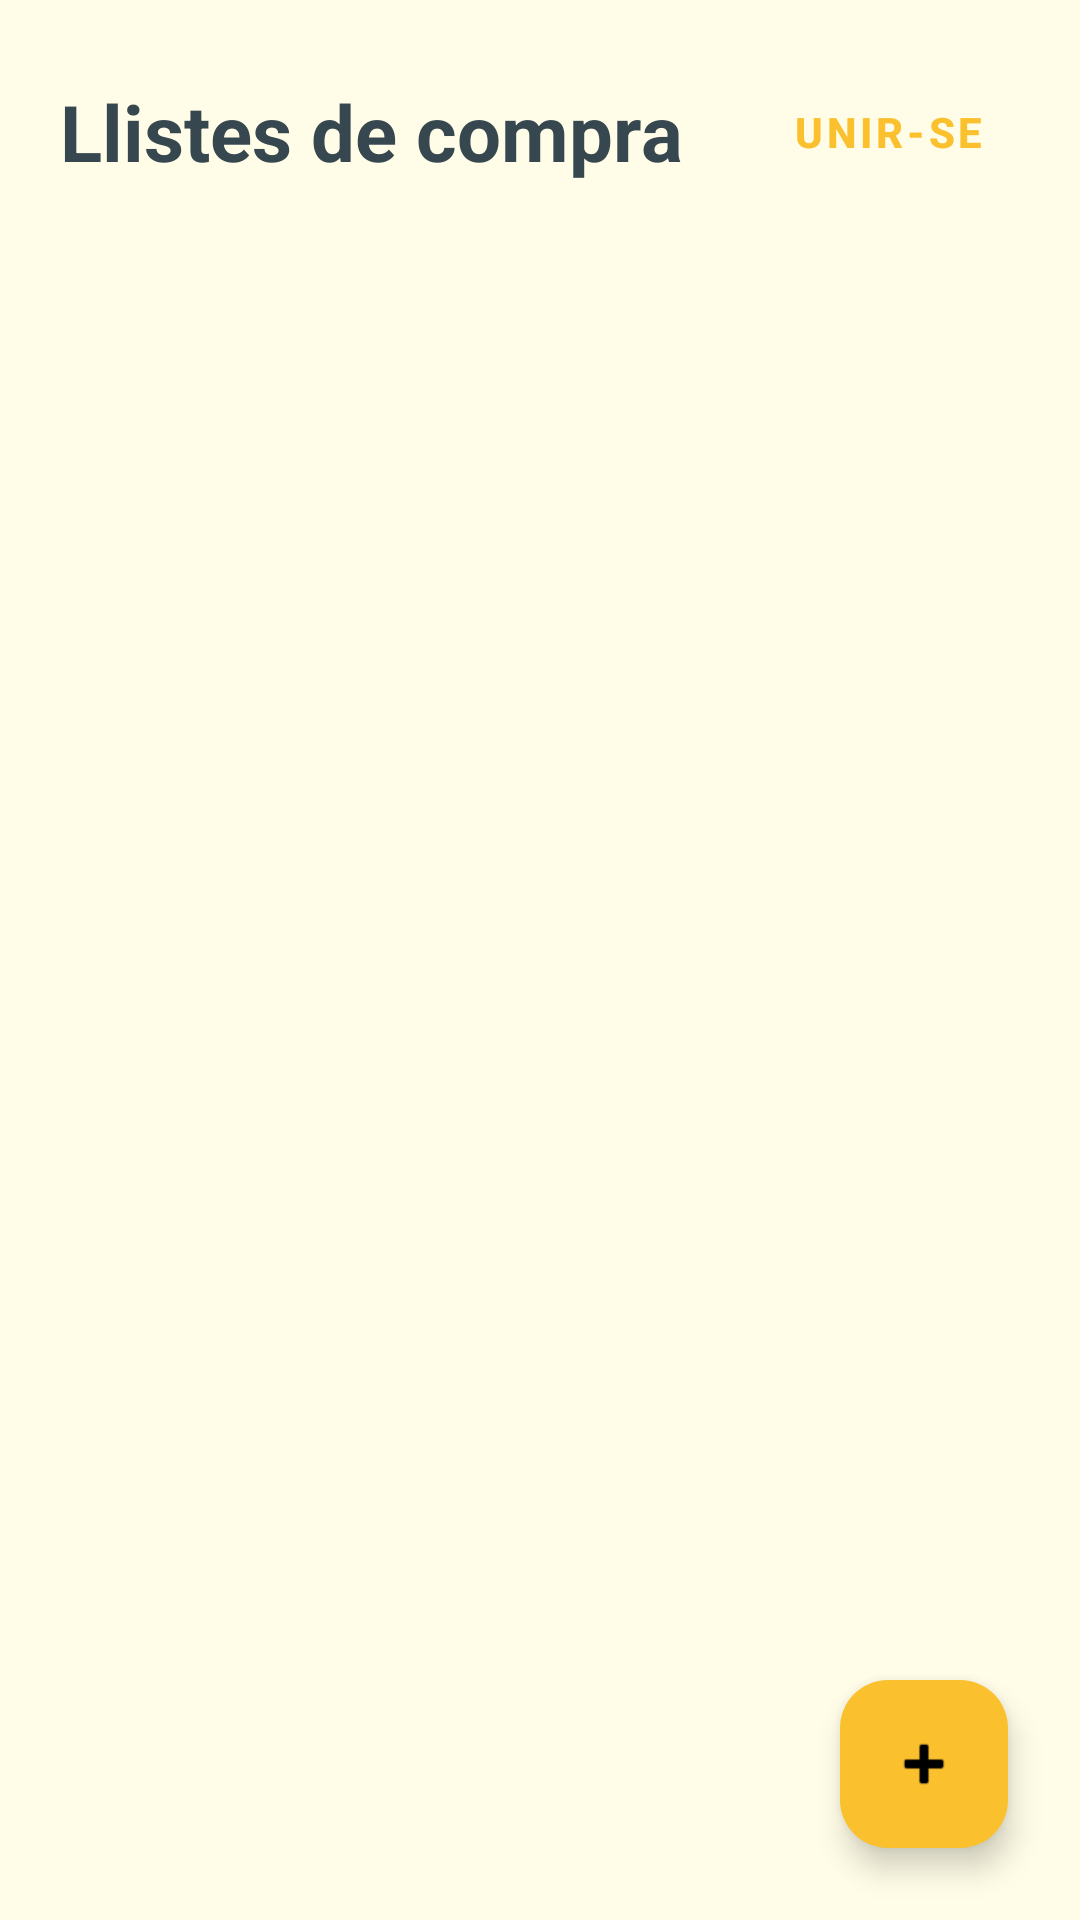

Where to tap for icons on this 1080px×1920px app screen, as (x,y):
Nova llista: (924,1764)
